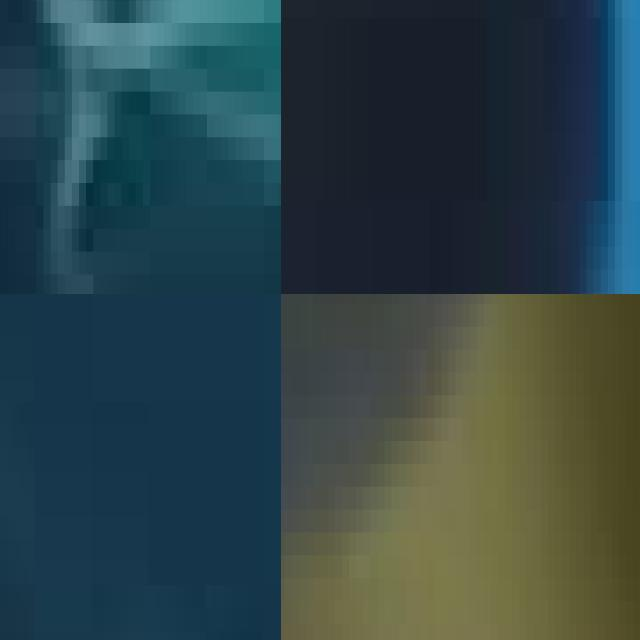fish: (0, 0, 281, 294)
